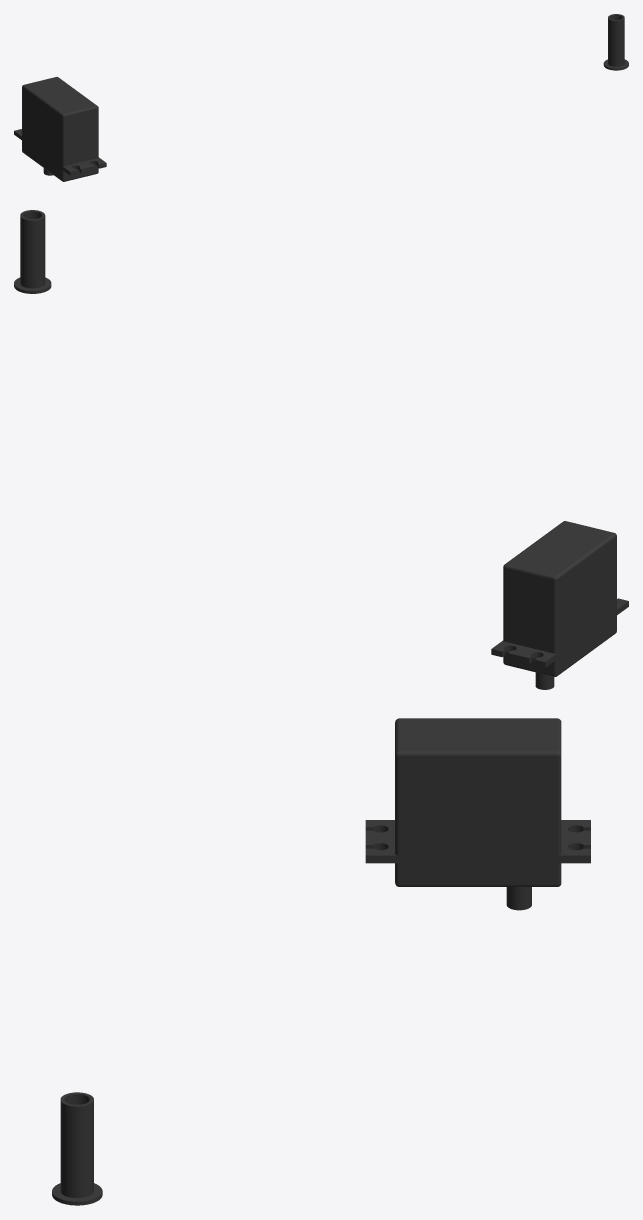
File: right_rocker_link_parts.dae
3 renders of one model, top to bottom at view 1: azimuth 30°, elevation 25°; view 2: azimuth 150°, elevation 25°; view 3: azimuth 270°, elevation 25°, orthographic. The views are drawn at different scales.
Visible parts, largest first — view 1: r_rocker_link_-_GWS_s35t_std_MIR-3; view 2: r_rocker_link_-_GWS_s35t_std_MIR-3; view 3: r_rocker_link_-_GWS_s35t_std_MIR-3.
Boxes of the visible parts, x1=… form: r_rocker_link_-_GWS_s35t_std_MIR-3: x1=14, y1=14, x2=628, y2=181; r_rocker_link_-_GWS_s35t_std_MIR-3: x1=14, y1=210, x2=628, y2=689; r_rocker_link_-_GWS_s35t_std_MIR-3: x1=52, y1=718, x2=590, y2=1205.
Size of the model in its own units: 0.266 by 0.128 by 0.0656.
1 material, 1 textured.
